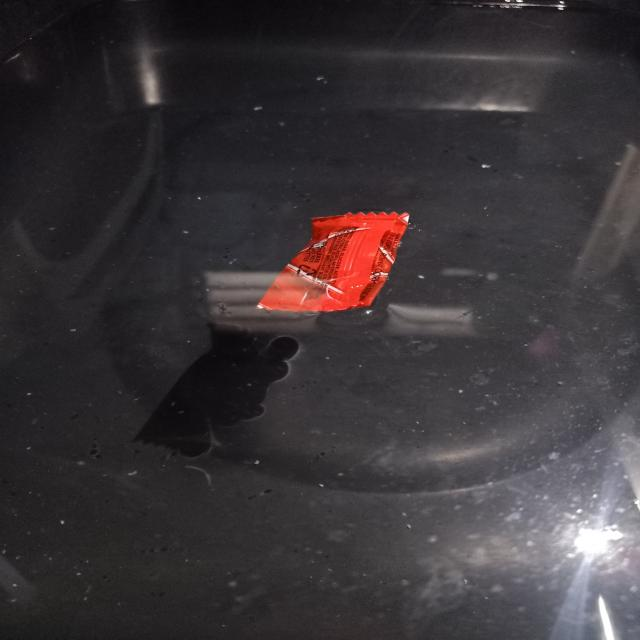Plastic Wrapper: (206, 212, 409, 322)
